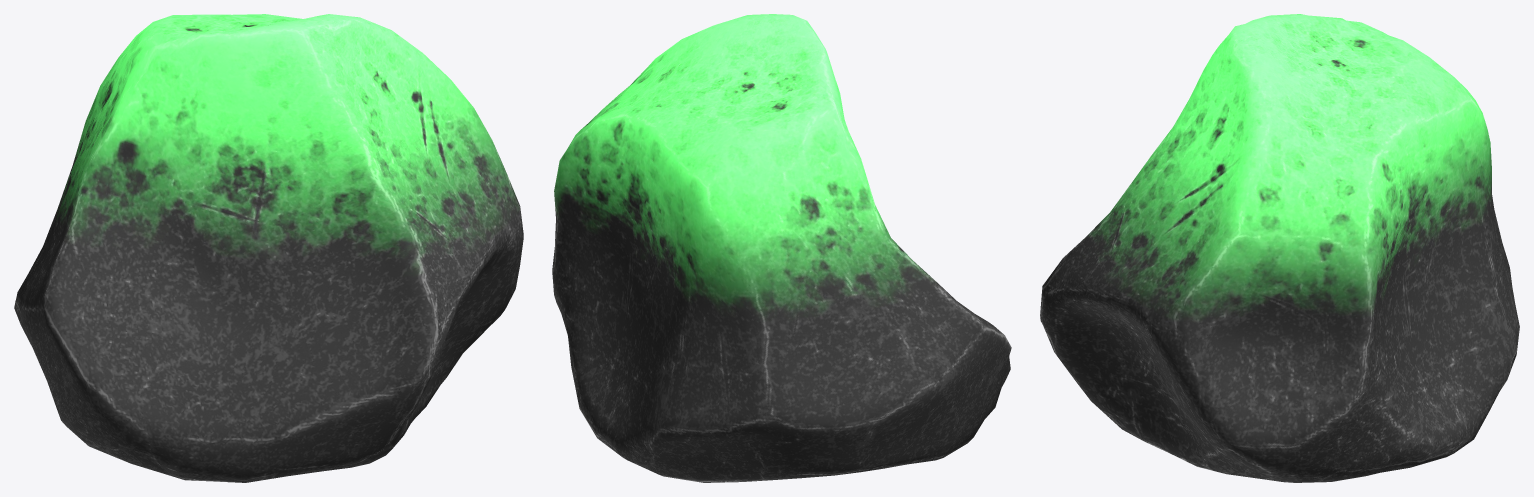
File: glowing_rock_1.glb
3 renders of one model, left to right at view 1: azimuth 30°, elevation 25°; view 2: azimuth 150°, elevation 25°; view 3: azimuth 270°, elevation 25°, orthographic. The views are drawn at different scales.
Visible parts, largest first — view 1: Rock_Low1:Group31467; view 2: Rock_Low1:Group31467; view 3: Rock_Low1:Group31467.
Part boxes in pixels (x1,y1,x2,y2): Rock_Low1:Group31467: (14, 14, 523, 482); Rock_Low1:Group31467: (552, 14, 1011, 482); Rock_Low1:Group31467: (1040, 14, 1519, 482).
Bounding box in the file's own units: 2 × 1.75 × 1.93.
Materials: 1 (1 with a texture image).
